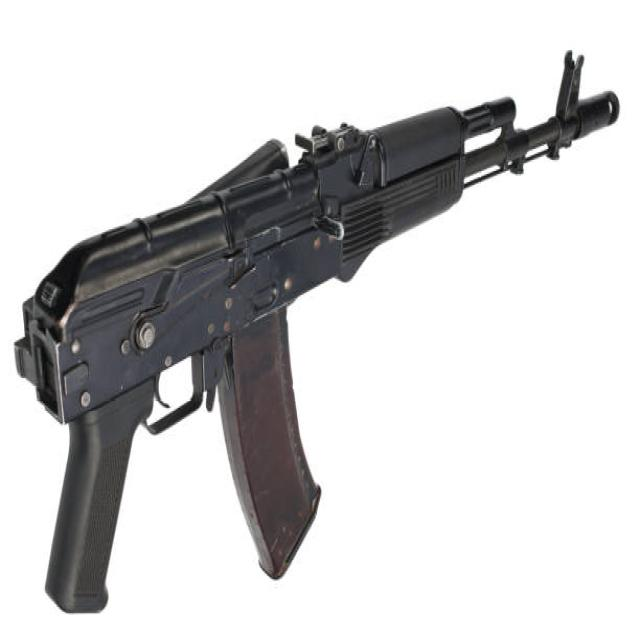rifle: (12, 42, 623, 632)
